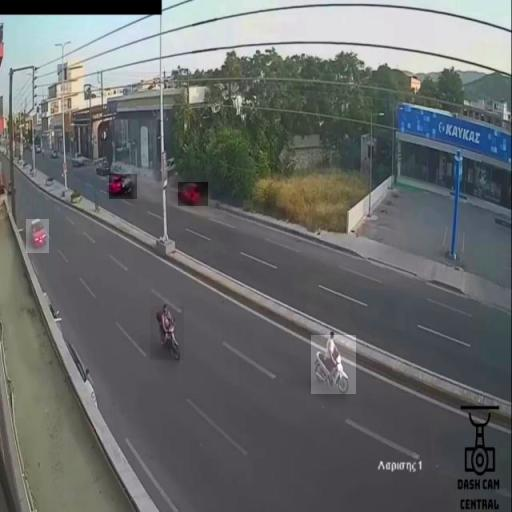小汽车: (26, 219, 49, 253), (178, 182, 208, 206)
小汽车撞小汽车: (109, 174, 137, 199)
自行车: (311, 335, 356, 394), (150, 306, 184, 360)
